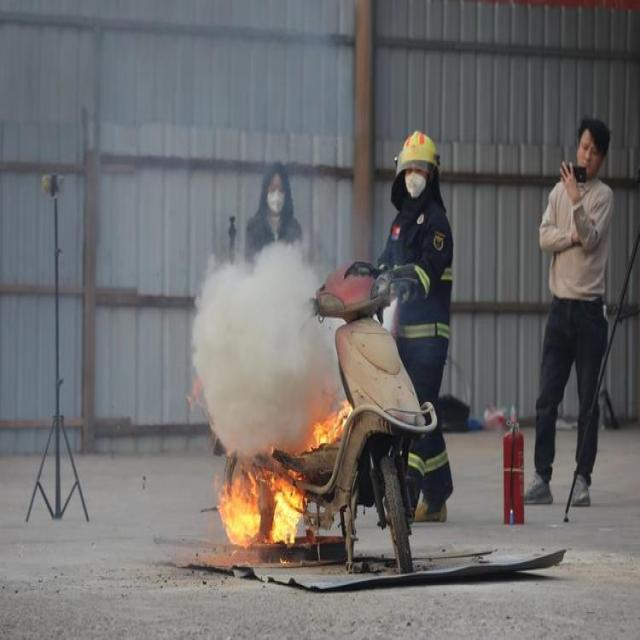Fire: (215, 471, 302, 550), (306, 403, 350, 446)
Smoke: (191, 241, 303, 459), (304, 319, 339, 402)
